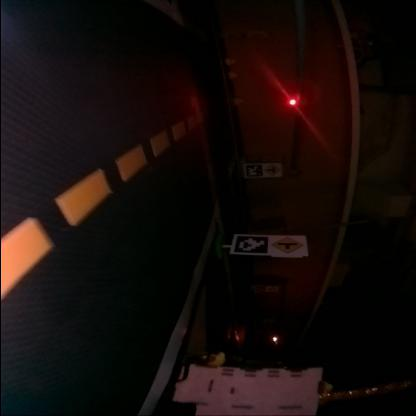Duckie: (201, 350, 226, 366), (230, 72, 238, 78), (235, 97, 243, 103), (227, 58, 235, 64)
Intersection sign: (272, 235, 304, 254), (265, 164, 280, 175)
QR code: (233, 235, 269, 253), (245, 164, 263, 176)
